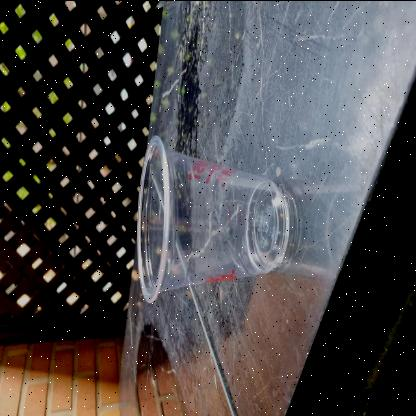Others: (131, 132, 296, 308)
